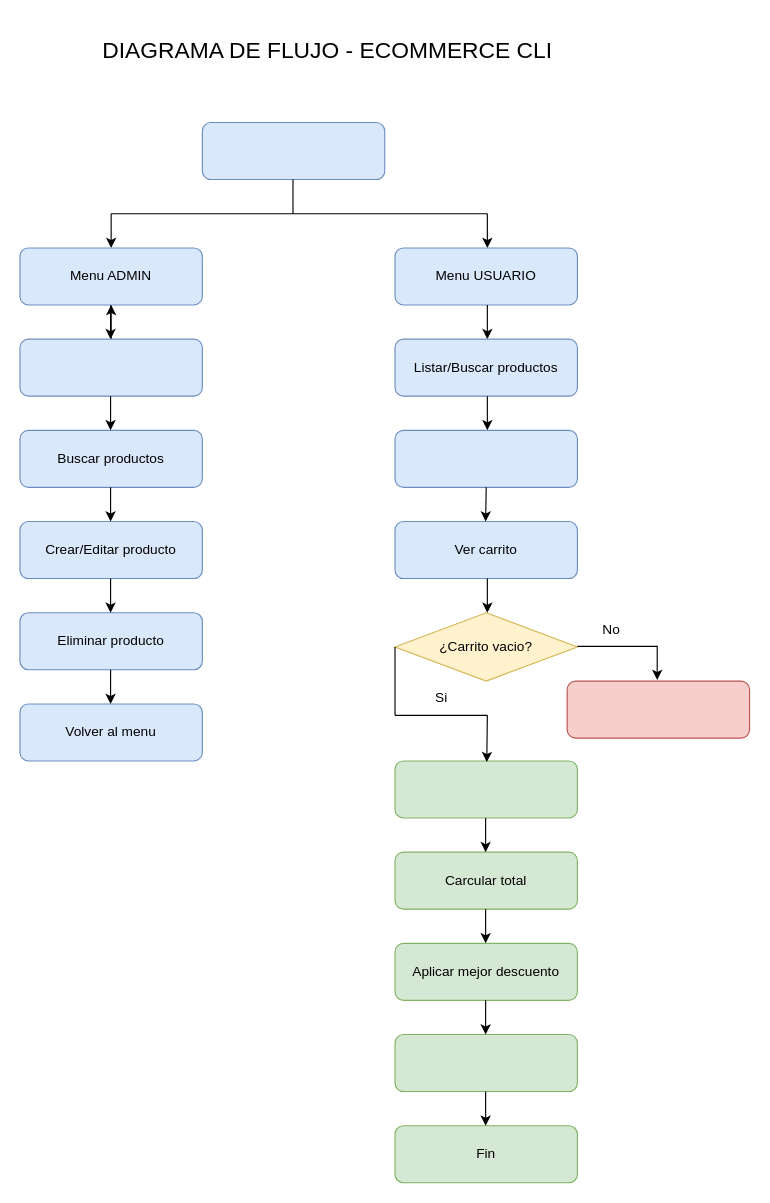
The diagram is 770 pixels wide and 1203 high, and some of its shapes have lost their labels. The shapes that lost their labels are listed below. From the top down, each one's box as (x1, y1, x2, y2) in pixels, then its label:
(201, 121, 385, 180): Inicio
(19, 338, 202, 396): Listar productos
(394, 429, 577, 487): Agregar/Quitar al carrito
(566, 680, 750, 738): No confirmar compra
(394, 760, 577, 818): Confirmar compra
(394, 1033, 577, 1092): Crear orden
